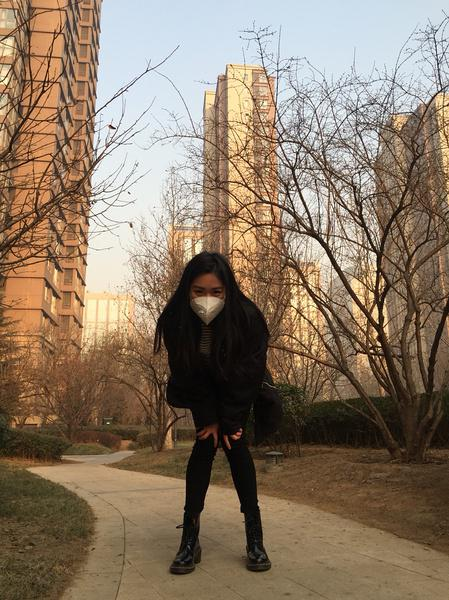OK: (190, 282, 226, 324)
